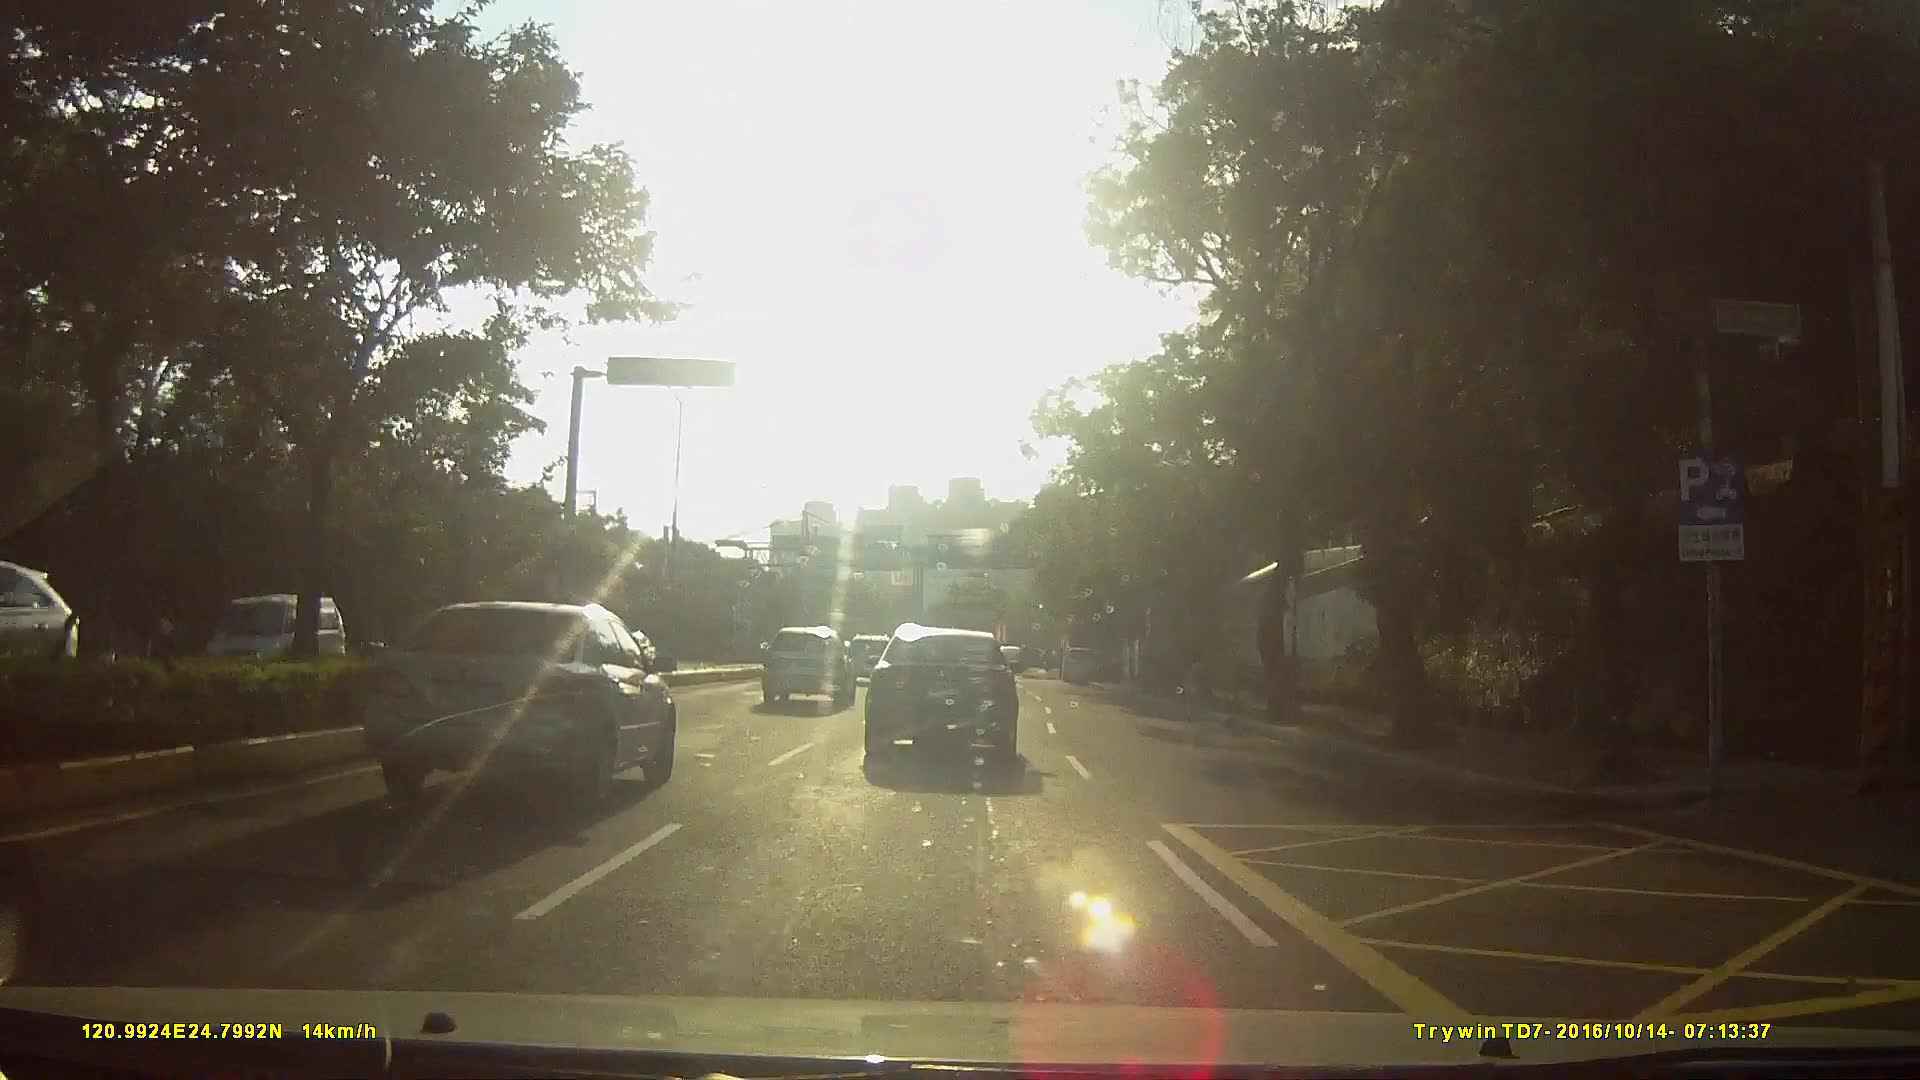vehicle: (365, 596, 676, 811), (865, 620, 1044, 767), (202, 593, 349, 698), (1, 558, 76, 705), (756, 626, 856, 713), (843, 632, 897, 684), (1060, 646, 1102, 684)
